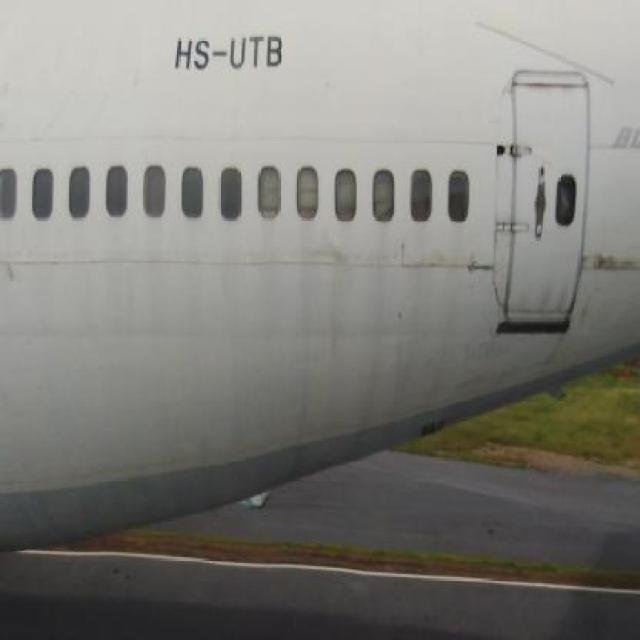Scartch: (402, 240, 504, 288), (583, 242, 640, 284)
